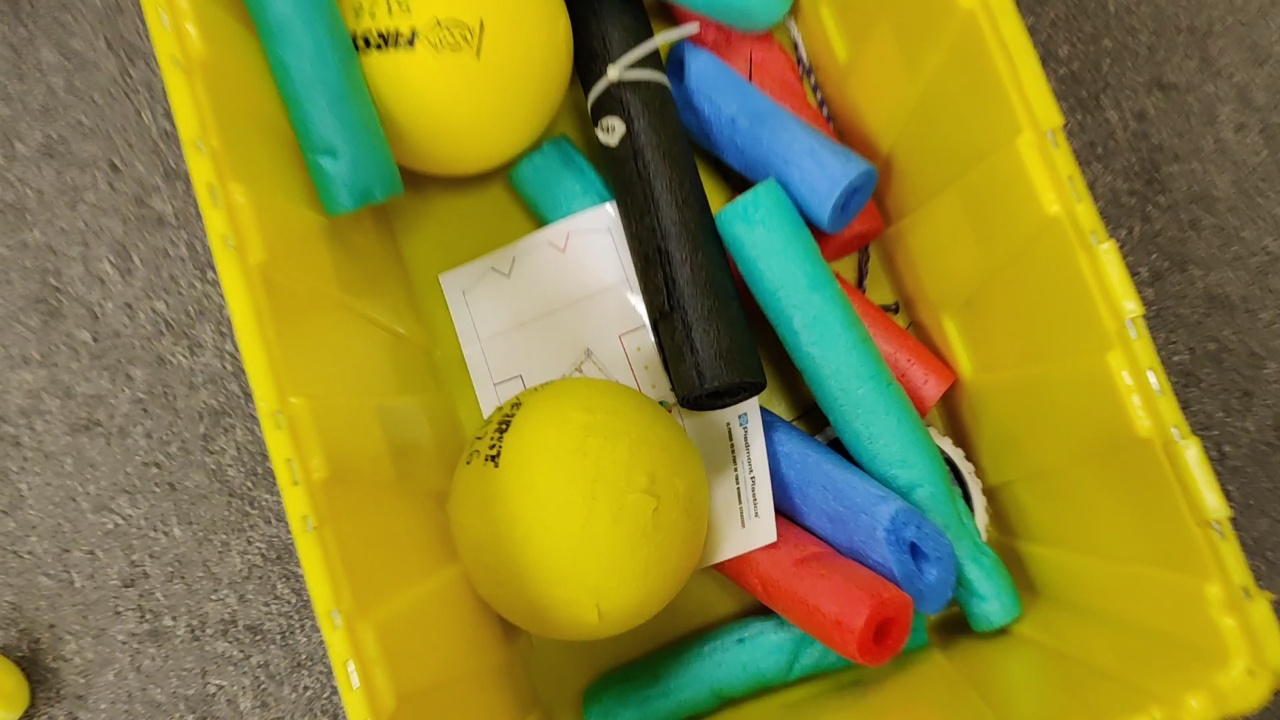Ball: (449, 378, 709, 645), (324, 1, 576, 178)
